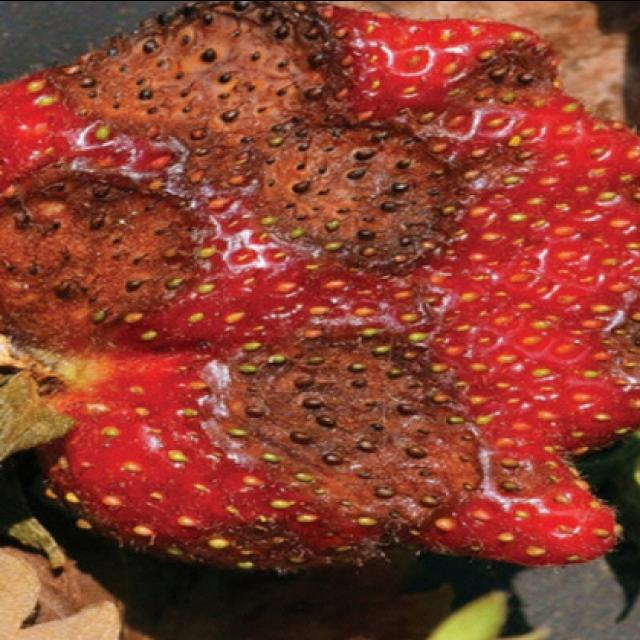Anthracnose Fruit Rot: (0, 2, 638, 574)
